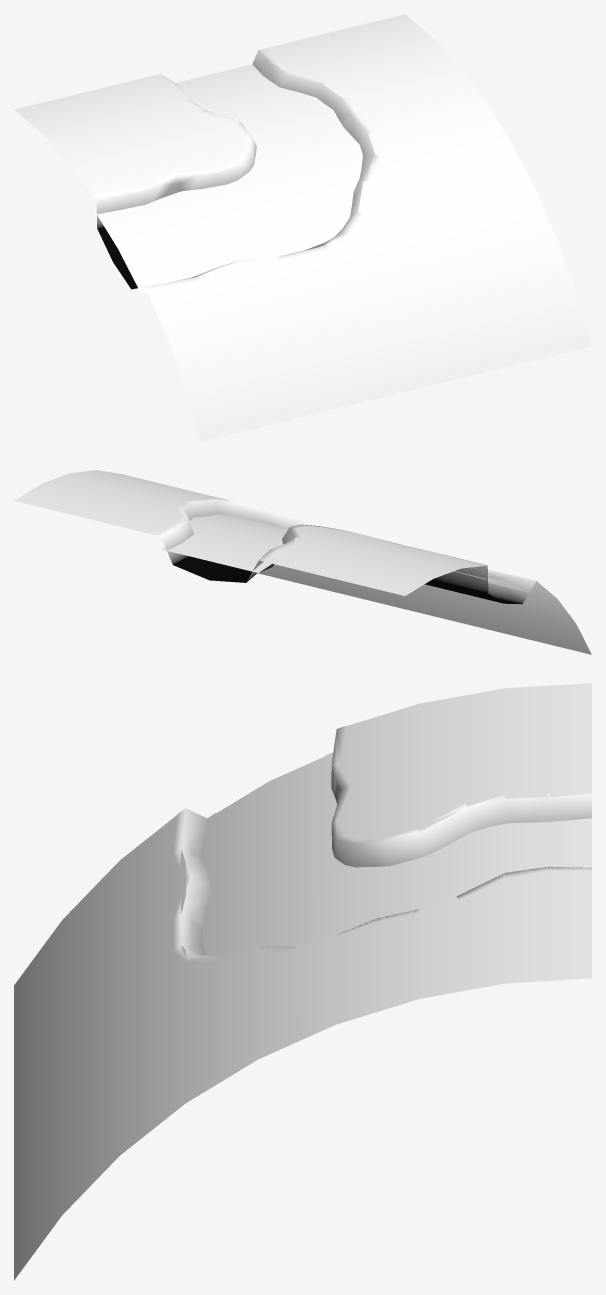
Rendered from grd_Ren_1.dae.
The picture shows the model from 3 angles, top to bottom: view 1: azimuth 30°, elevation 25°; view 2: azimuth 150°, elevation 25°; view 3: azimuth 270°, elevation 25°; orthographic projection. The views are drawn at different scales.
Parts seen in each view (by area): view 1: grass_1_0, river_2_0, cliff_river_0_0, river_edge_3_0; view 2: grass_1_0, cliff_river_0_0, river_2_0, river_edge_3_0; view 3: grass_1_0, river_2_0, cliff_river_0_0, river_edge_3_0.
Part boxes in pixels (x1,y1,x2,y2): grass_1_0: (14, 14, 591, 441); river_2_0: (94, 65, 362, 292); cliff_river_0_0: (93, 48, 381, 292); river_edge_3_0: (94, 64, 359, 293); grass_1_0: (14, 470, 591, 654); cliff_river_0_0: (155, 499, 538, 604); river_2_0: (162, 514, 531, 593); river_edge_3_0: (161, 514, 530, 593); grass_1_0: (14, 683, 591, 1280); river_2_0: (203, 753, 591, 955); cliff_river_0_0: (173, 726, 591, 962); river_edge_3_0: (203, 752, 591, 956).
Bounding box in the file's own units: 512 × 244 × 423.
4 materials, 1 textured.
